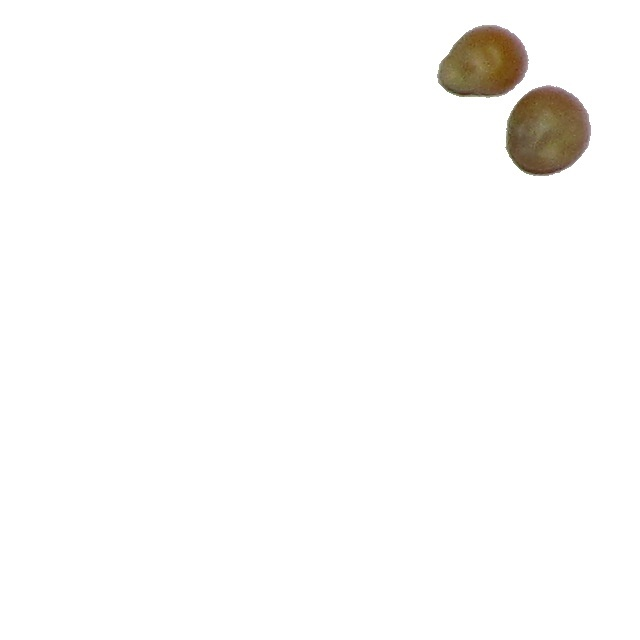mais: (504, 84, 592, 177), (436, 24, 530, 99)
